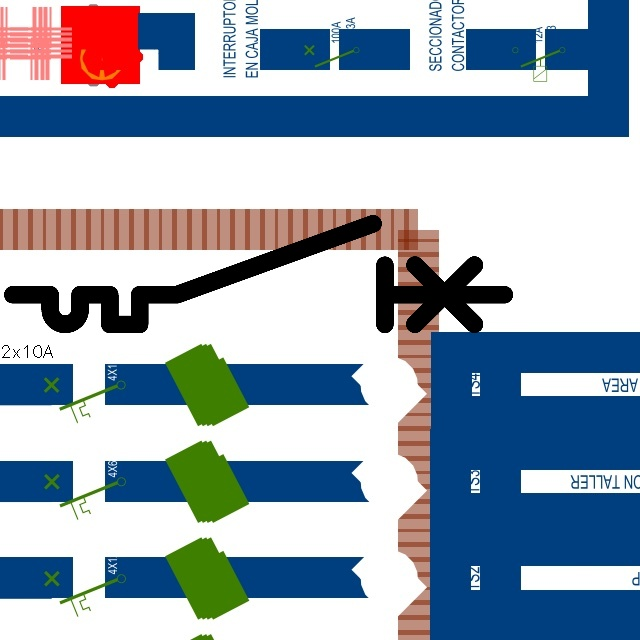interruptor_termomagnetico: (0, 211, 517, 337)
